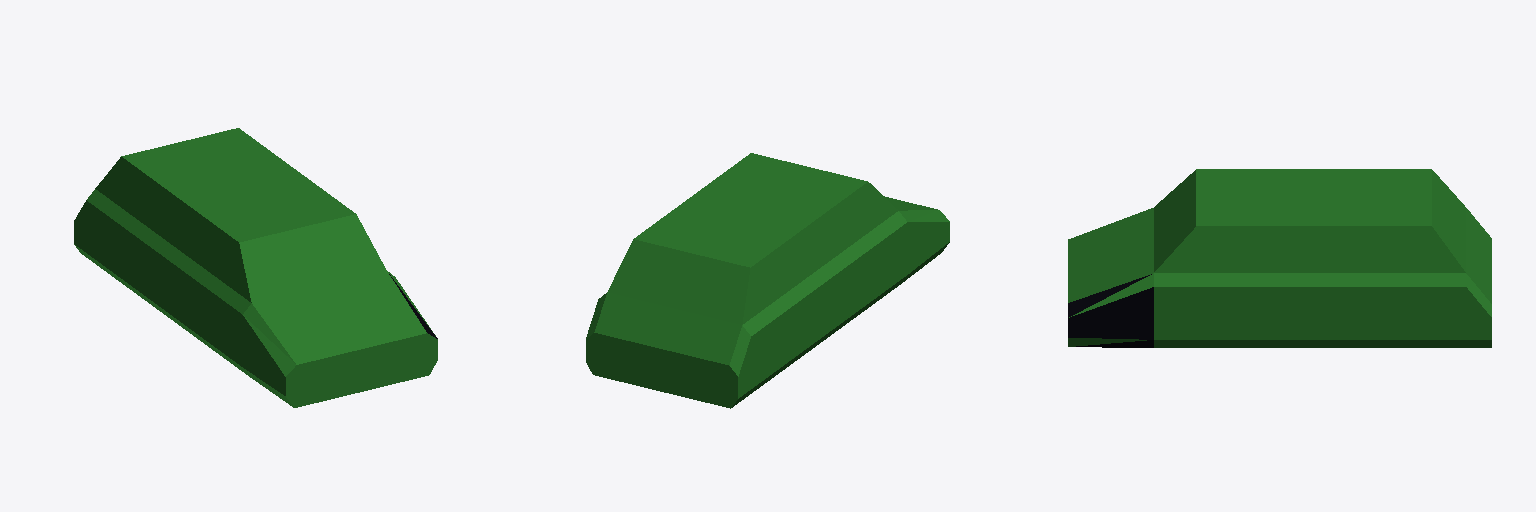
The model's file is vehicle_suv_simple.obj.
The picture shows the model from 3 angles: view 1: azimuth 30°, elevation 25°; view 2: azimuth 150°, elevation 25°; view 3: azimuth 270°, elevation 25°; orthographic projection.
Bounding box in the file's own units: 2.06 × 1.5 × 4.95.